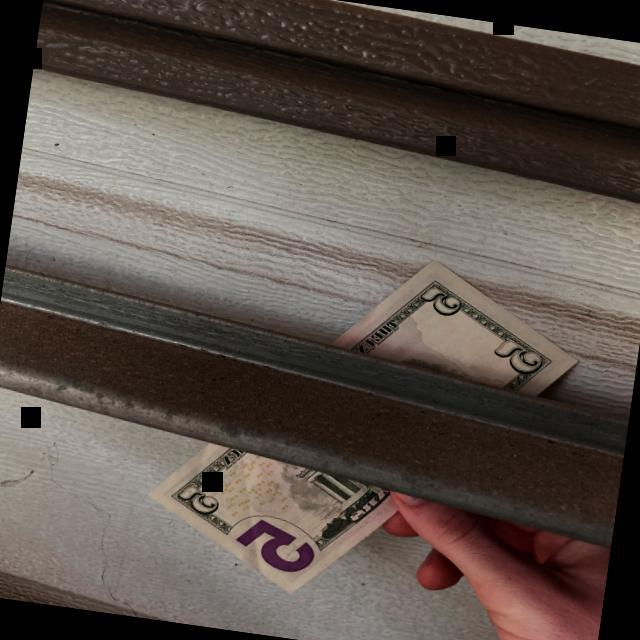five: (146, 258, 578, 594)
